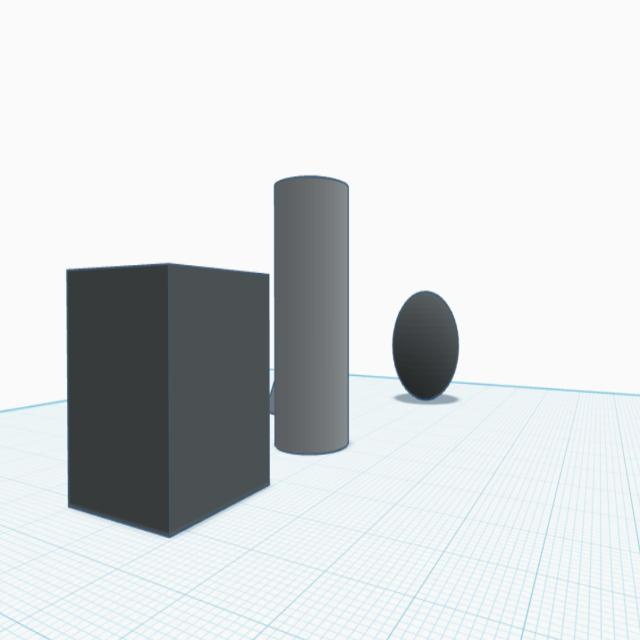cube: (59, 260, 275, 540)
sphere: (391, 288, 460, 402)
